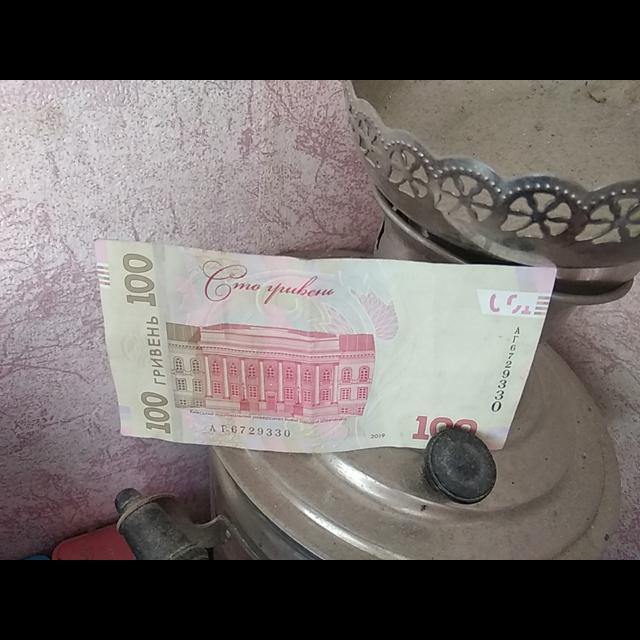100uah: (95, 240, 558, 456)
